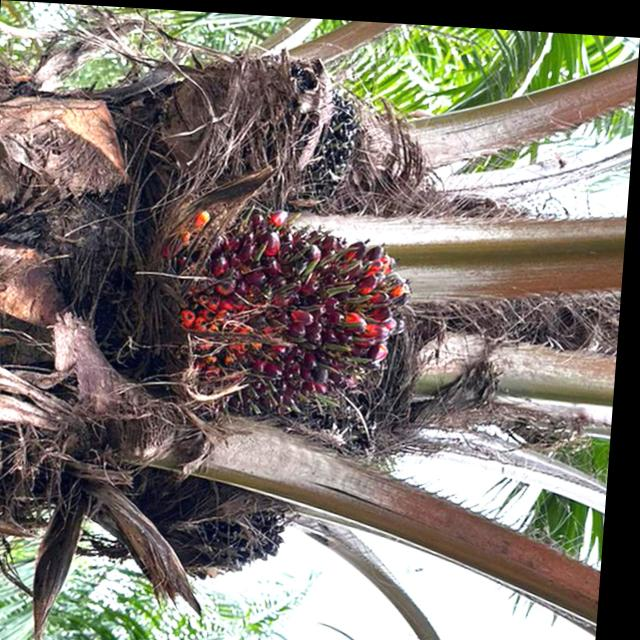ripe: (156, 184, 439, 443)
